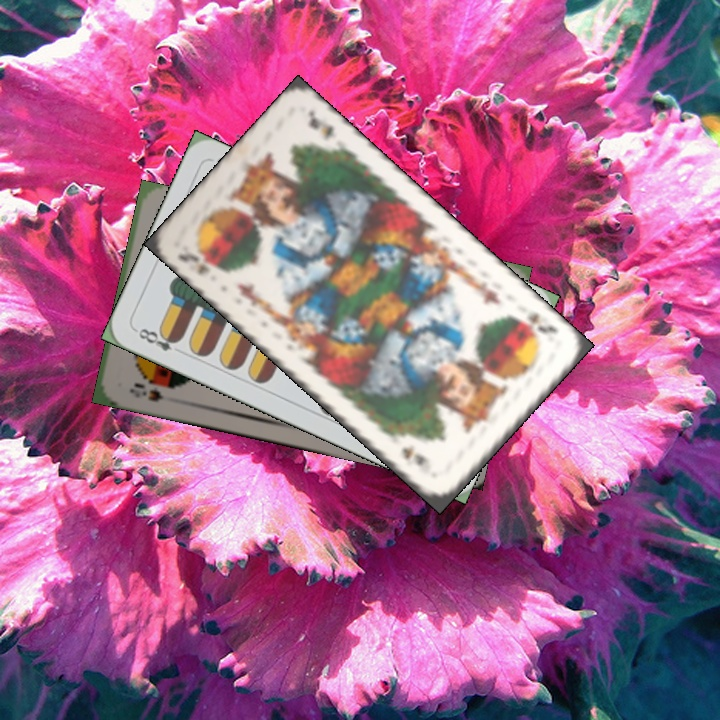E8: (131, 324, 186, 357)
SK: (509, 308, 562, 341), (174, 246, 223, 278)
SO: (125, 378, 177, 404)
